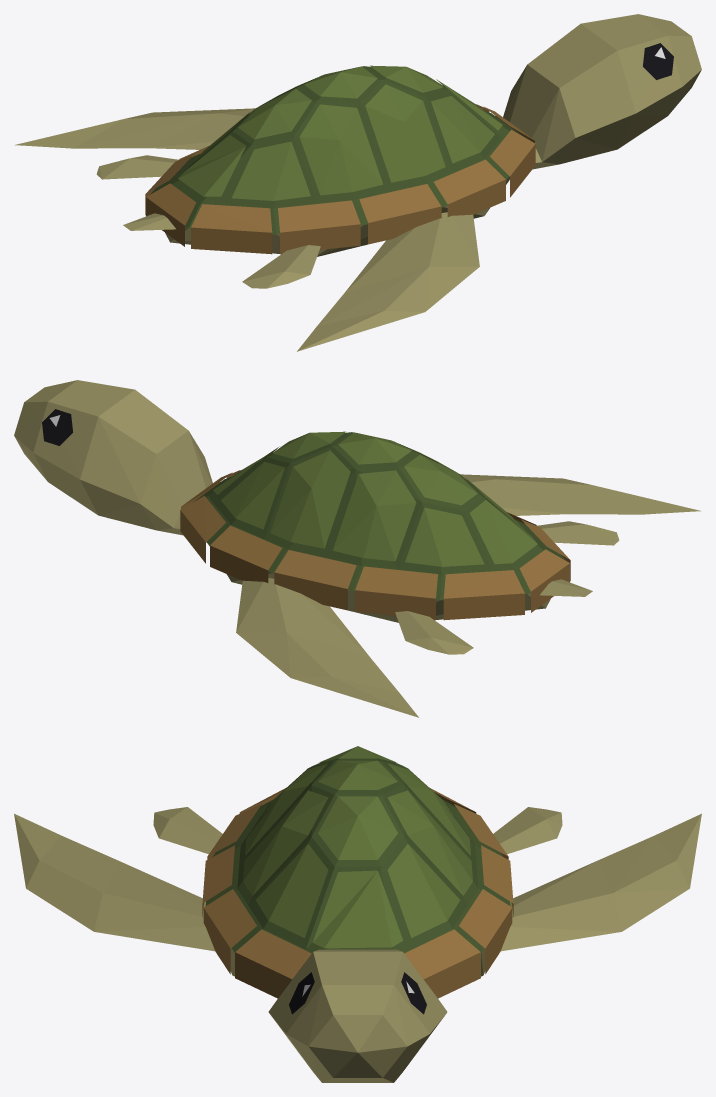
File: sea_turtle.glb
3 renders of one model, top to bottom at view 1: azimuth 30°, elevation 25°; view 2: azimuth 150°, elevation 25°; view 3: azimuth 270°, elevation 25°, orthographic. The views are drawn at different scales.
Parts seen in each view (by area): view 1: sea_turtle; view 2: sea_turtle; view 3: sea_turtle.
Boxes of the visible parts, left/top/right/bottom form: sea_turtle: left=15, top=14, right=701, bottom=351; sea_turtle: left=14, top=380, right=700, bottom=717; sea_turtle: left=14, top=746, right=701, bottom=1082.
Bounding box in the file's own units: 1 × 0.2241 × 0.86.
